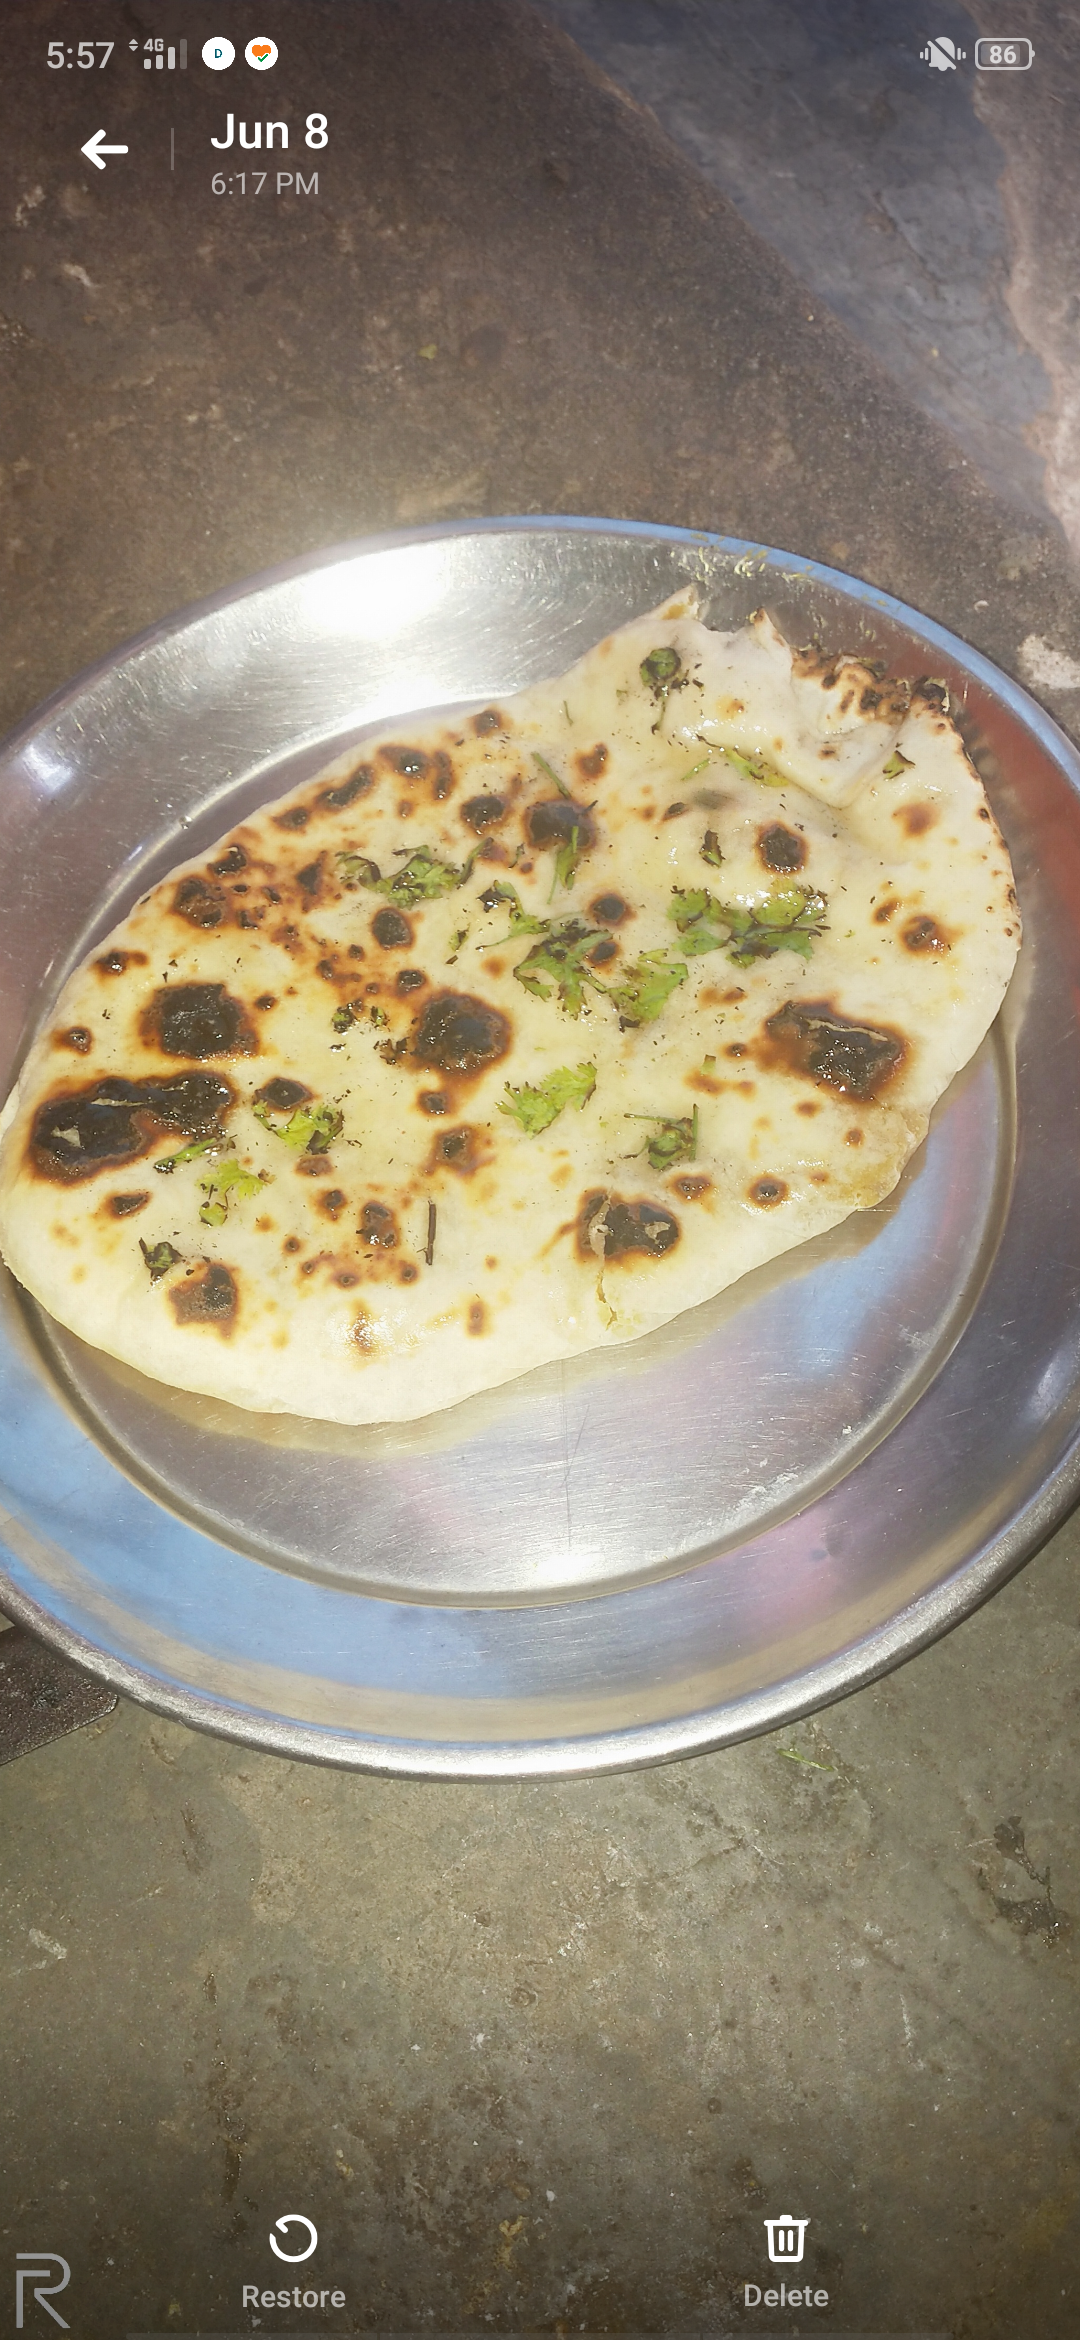food: (0, 573, 1035, 1437)
